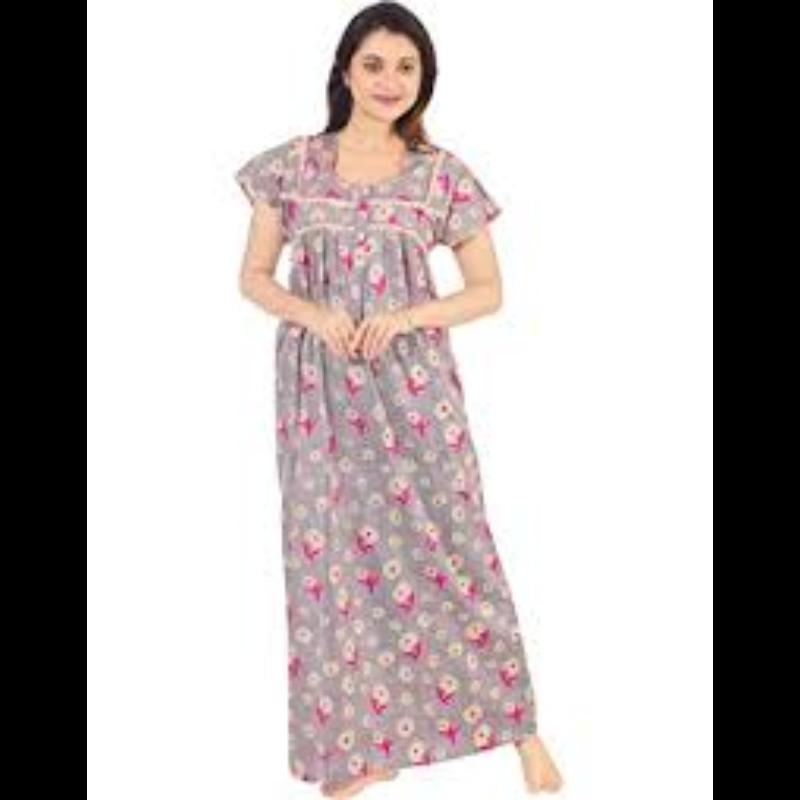Maxi: (198, 113, 566, 776)
